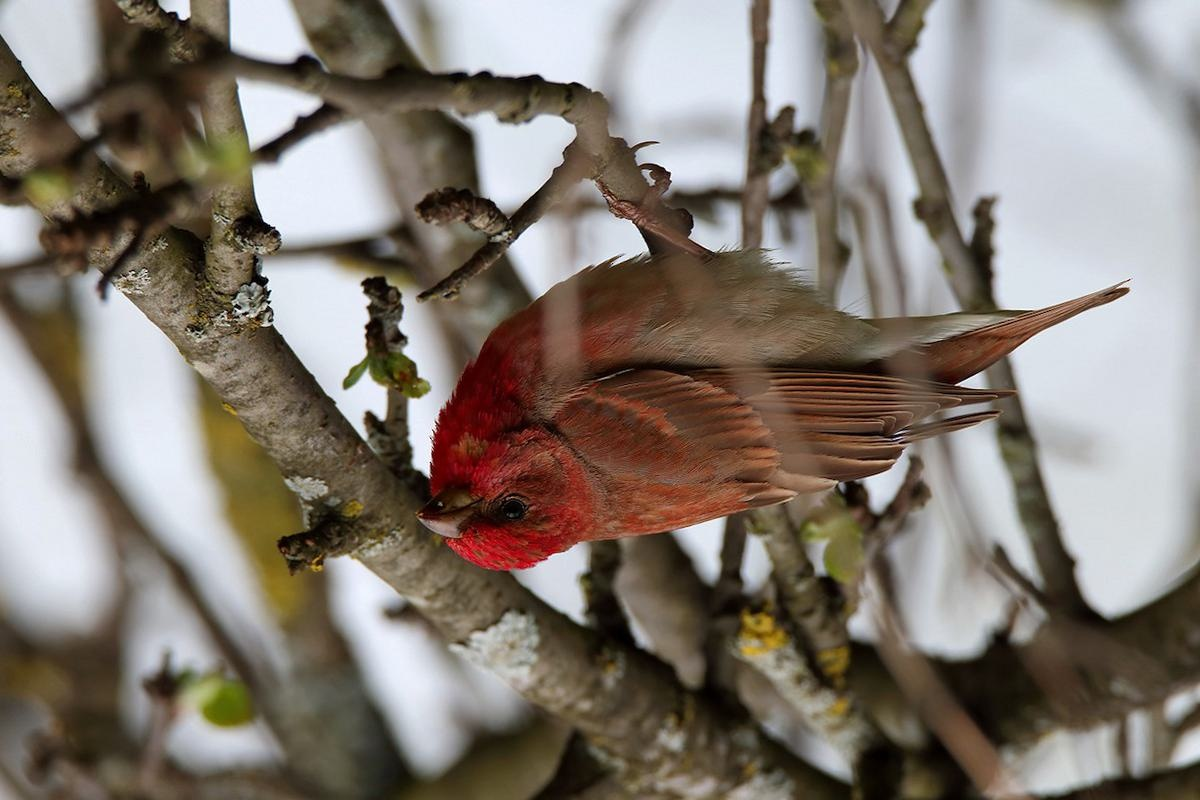rosefinch: (410, 228, 1110, 583)
